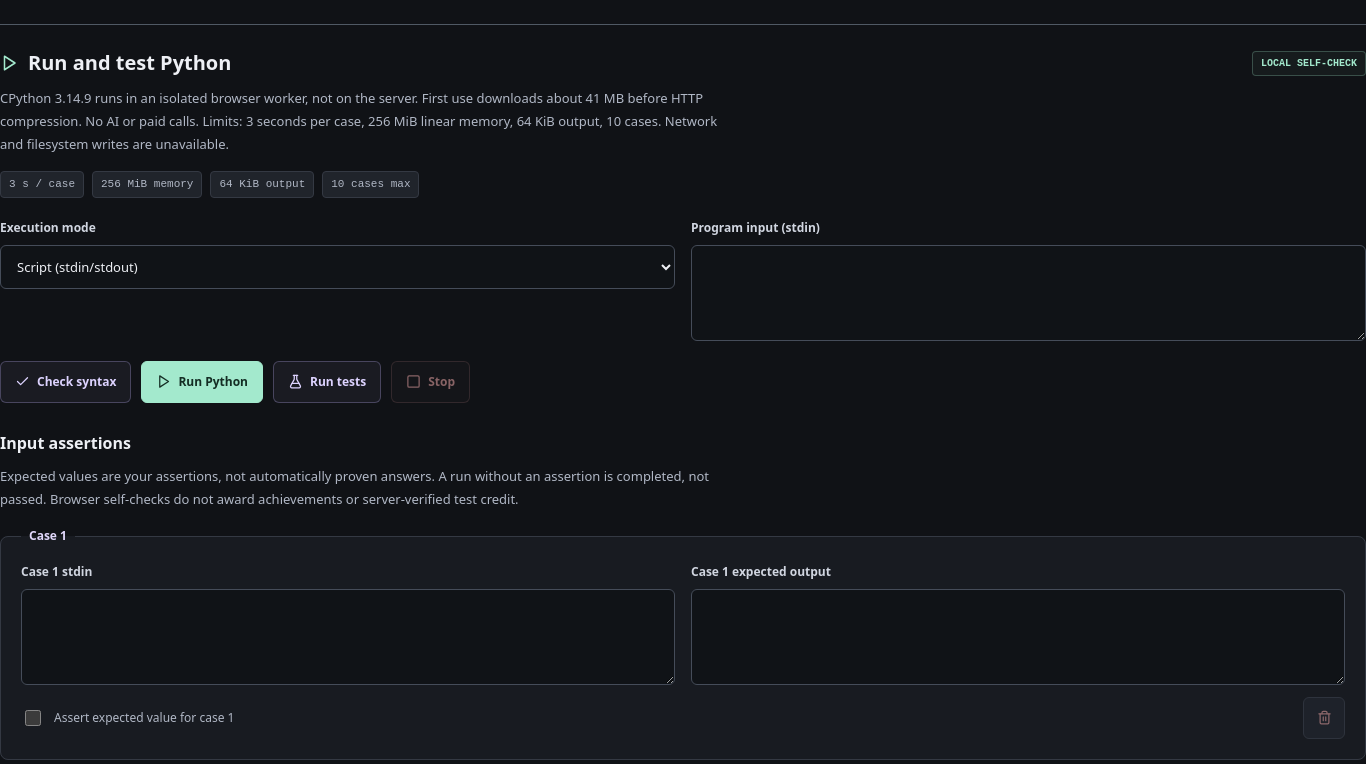
Test case: shows an actual stdout mismatch as failed, alongside the expected output
This screenshot has width=1366, height=764.
In the text box labelled "Case 1 stdin": (348, 637) [21,589,675,685], type "153"
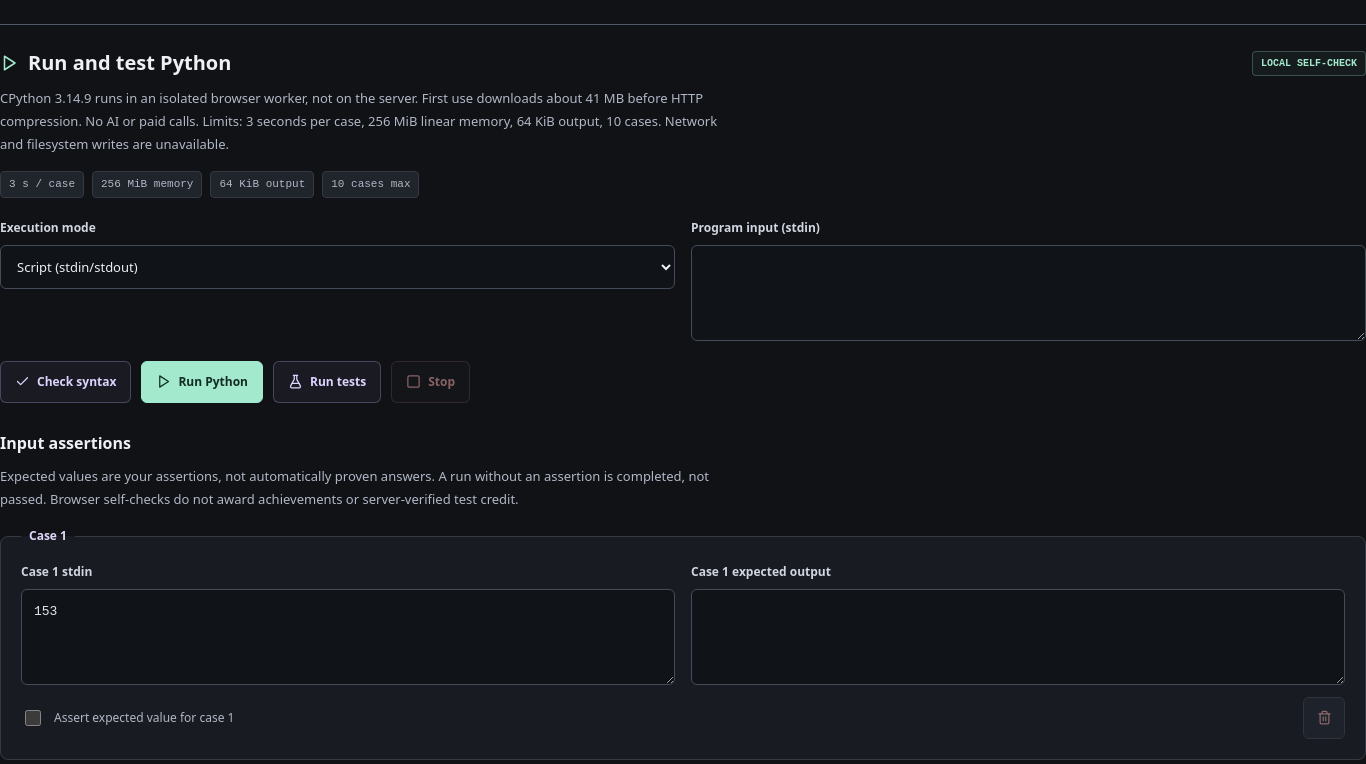
In the text box labelled "Case 1 expected output": (1018, 637) [691,589,1345,685], type "True"
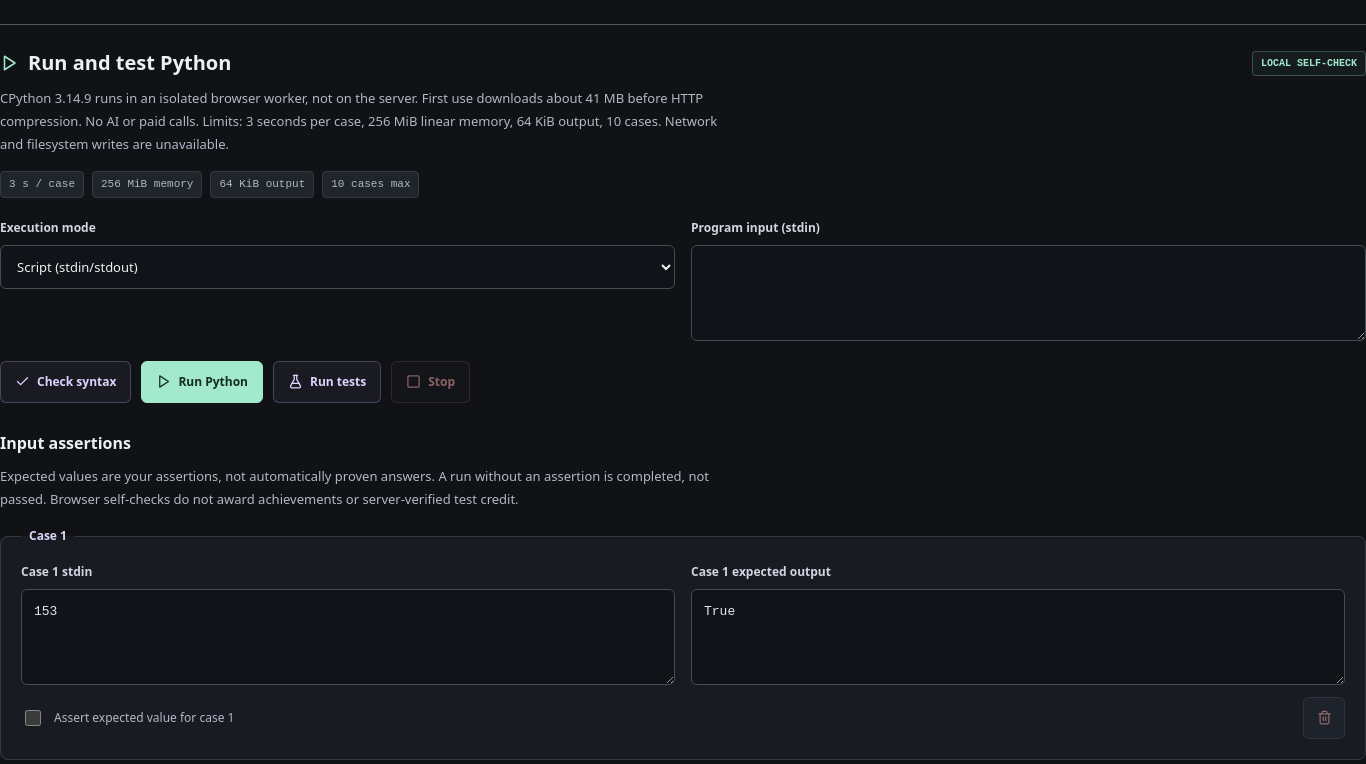
Click the checkbox labelled "Assert expected value for case 1": (33, 718) [25,710,41,726]
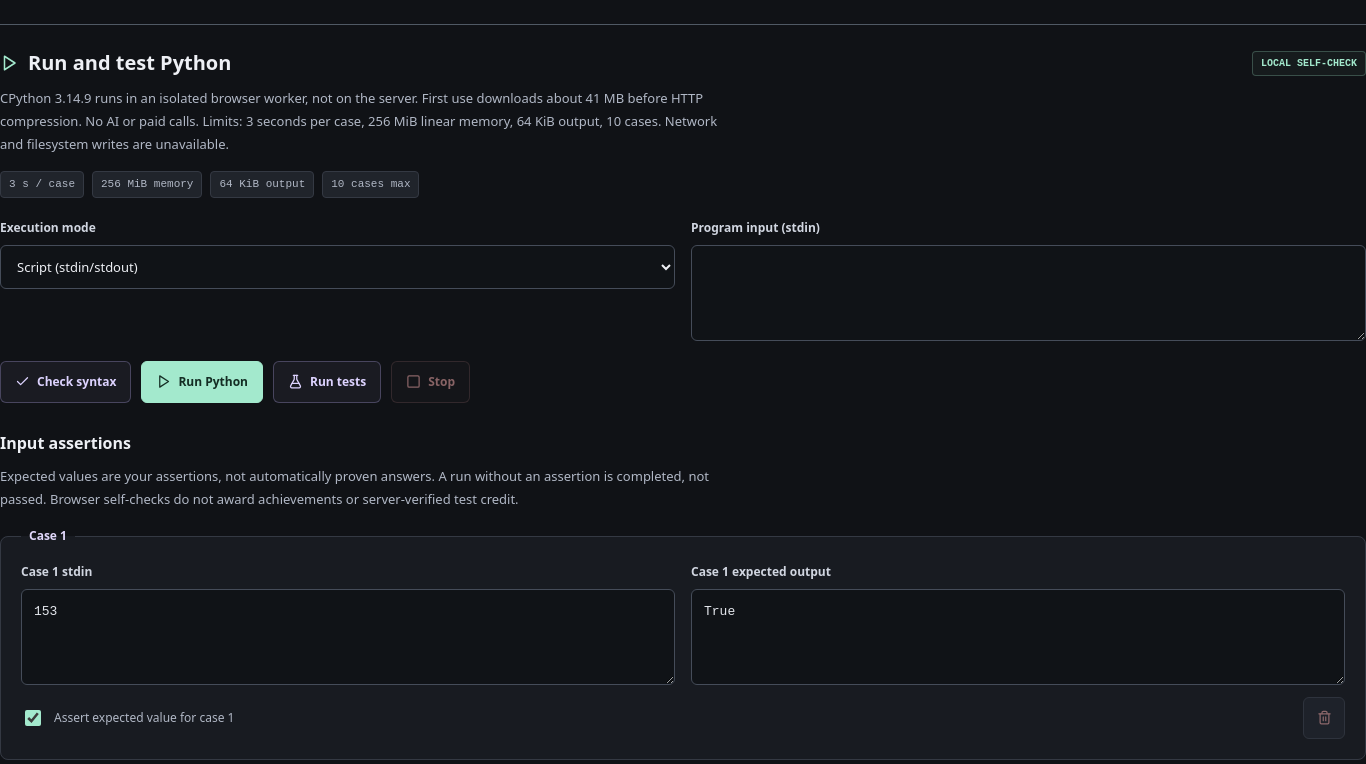
Click the button "Run tests": (327, 382) [273,361,381,403]
(page scrolled)
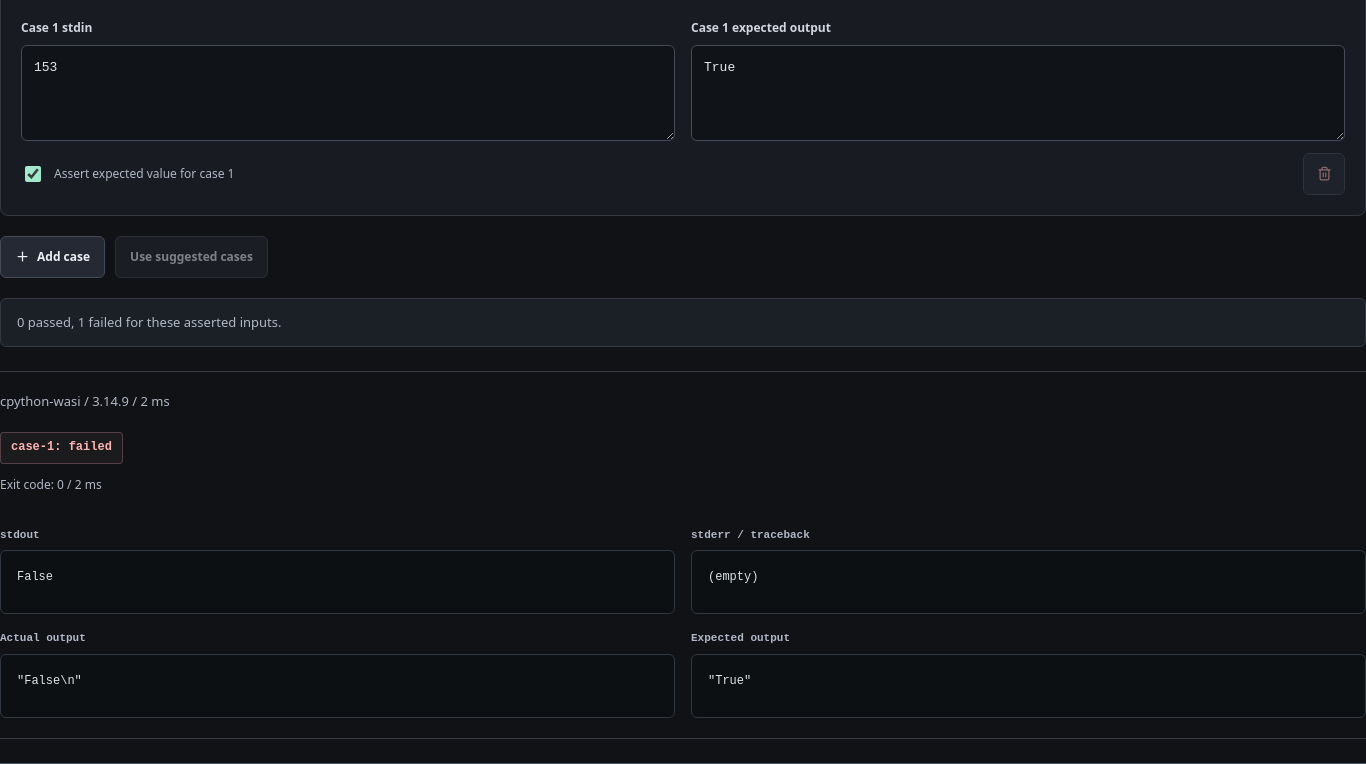
Now the message named "Python execution status" shows "0 passed, 1 failed", box [17,313,282,331]
Now the heading "case-1: failed" is shown, box [0,432,123,464]
Now the text "\"False\\n\"" is shown, box [0,654,675,718]
